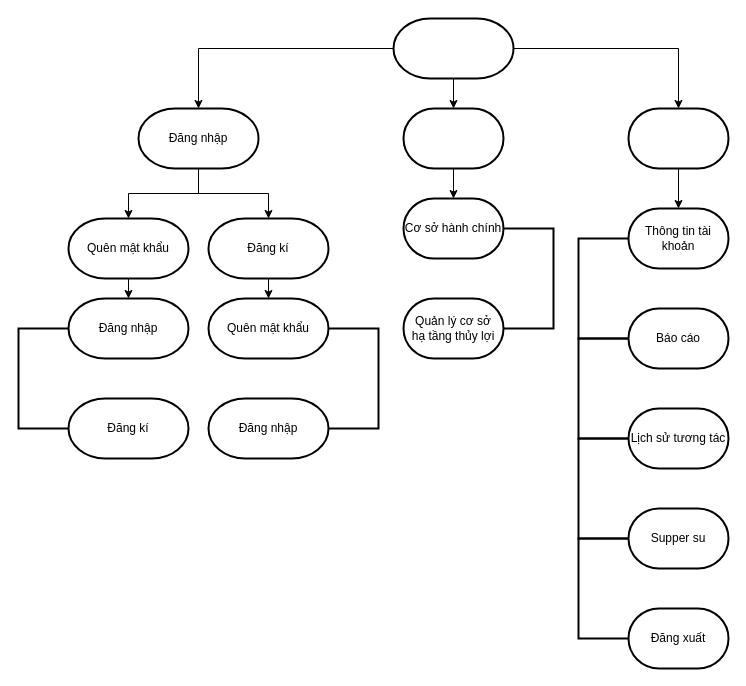
This 746x686 diagram has some shape labels left out. The shapes that lost their labels are listed below. From the top down, each one's centre as x and y in pixels, then its label:
At point 453,48: "Quản Lý hệ thống".
At point 453,138: "Menu".
At point 678,138: "Chức năng người dùng".
